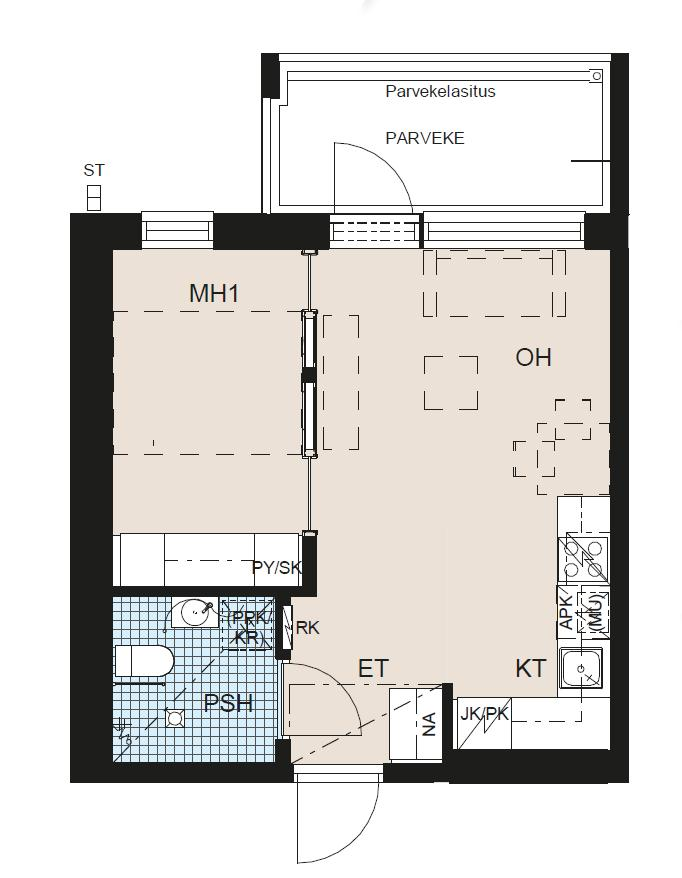bathroom: (111, 593, 278, 765)
door: (328, 138, 423, 241), (290, 771, 390, 863), (275, 659, 368, 742)
perimeter: (69, 213, 629, 785)
window: (270, 44, 621, 88), (419, 199, 595, 254), (255, 89, 293, 215), (133, 204, 224, 254)
